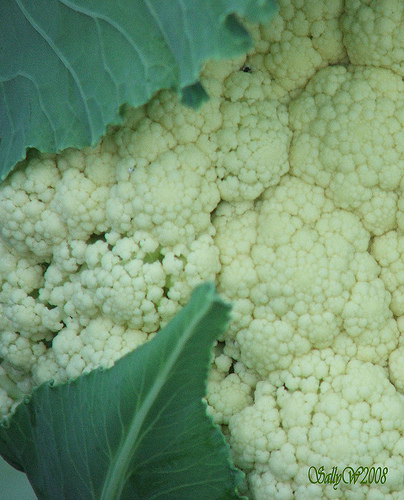cauliflower: (0, 1, 402, 498)
